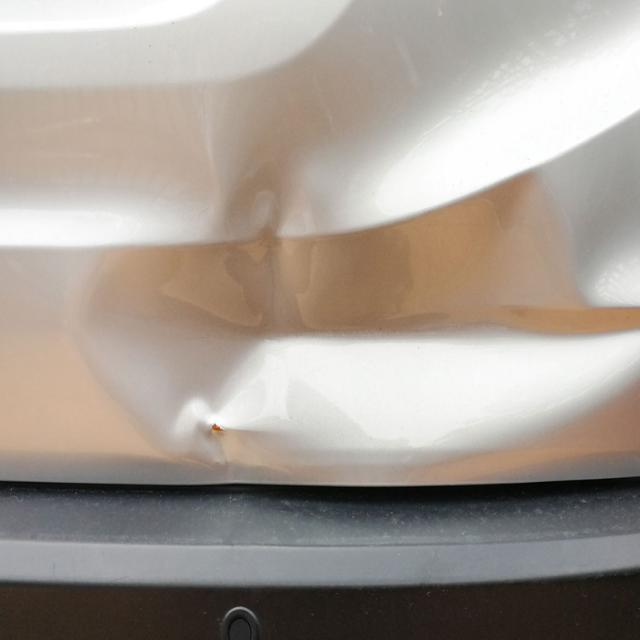dents: (103, 120, 370, 493), (166, 390, 273, 497)
